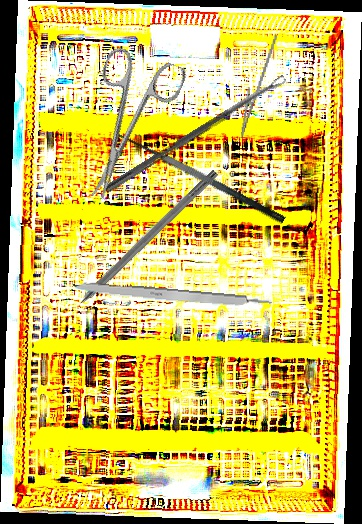Hook Surgical: (56, 167, 220, 325)
Iris Scissors: (57, 40, 189, 212)
Needle Holder: (232, 30, 278, 141)
Scalpel Handle: (71, 280, 273, 312)
Spatula Surgical: (108, 124, 287, 239)
Surgical Spoon: (103, 74, 288, 195)
